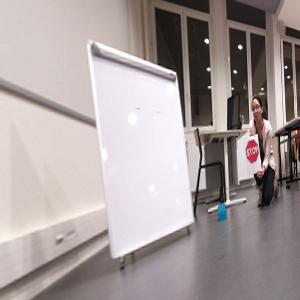stop: (245, 140, 259, 163)
